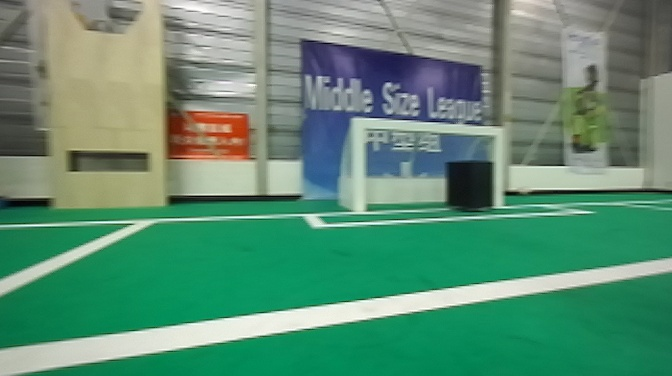goalpost: (350, 116, 368, 211), (488, 123, 506, 208)
